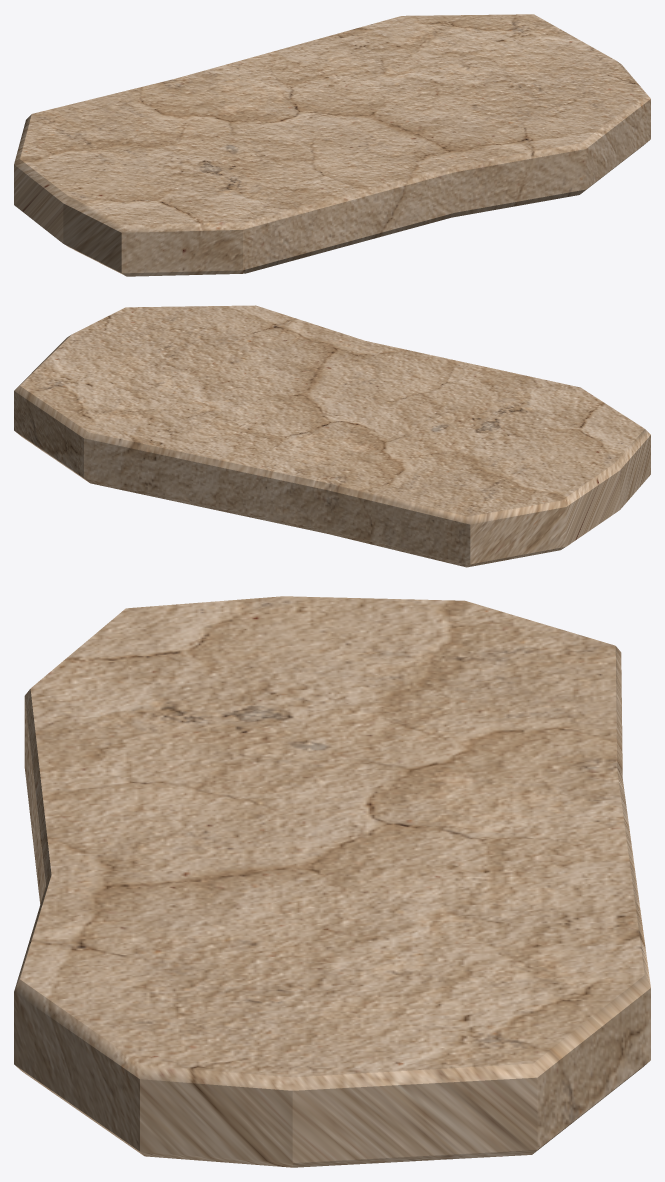
Rendered from stepping_stone_1.glb.
3 renders of one model, top to bottom at view 1: azimuth 30°, elevation 25°; view 2: azimuth 150°, elevation 25°; view 3: azimuth 270°, elevation 25°, orthographic. The views are drawn at different scales.
Visible parts, largest first — view 1: LivingIsland_SteppingStone_1; view 2: LivingIsland_SteppingStone_1; view 3: LivingIsland_SteppingStone_1.
Boxes of the visible parts, left/top/right/bottom form: LivingIsland_SteppingStone_1: left=14, top=14, right=650, bottom=276; LivingIsland_SteppingStone_1: left=14, top=305, right=650, bottom=567; LivingIsland_SteppingStone_1: left=14, top=596, right=650, bottom=1167.
Size of the model in its own units: 0.7825 by 0.0698 by 0.431.
1 material, 1 textured.
